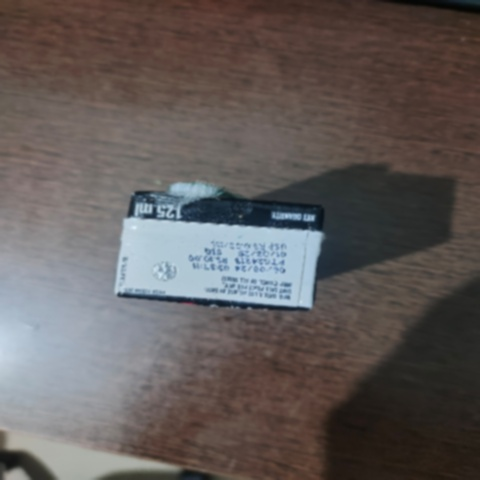appy: (89, 162, 339, 314)
